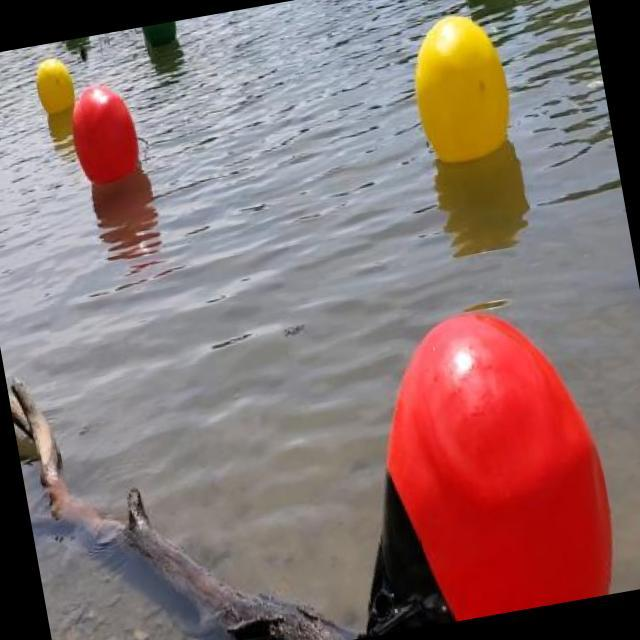buoy: (310, 288, 624, 637), (403, 7, 518, 168), (63, 78, 143, 185), (30, 54, 76, 114)
